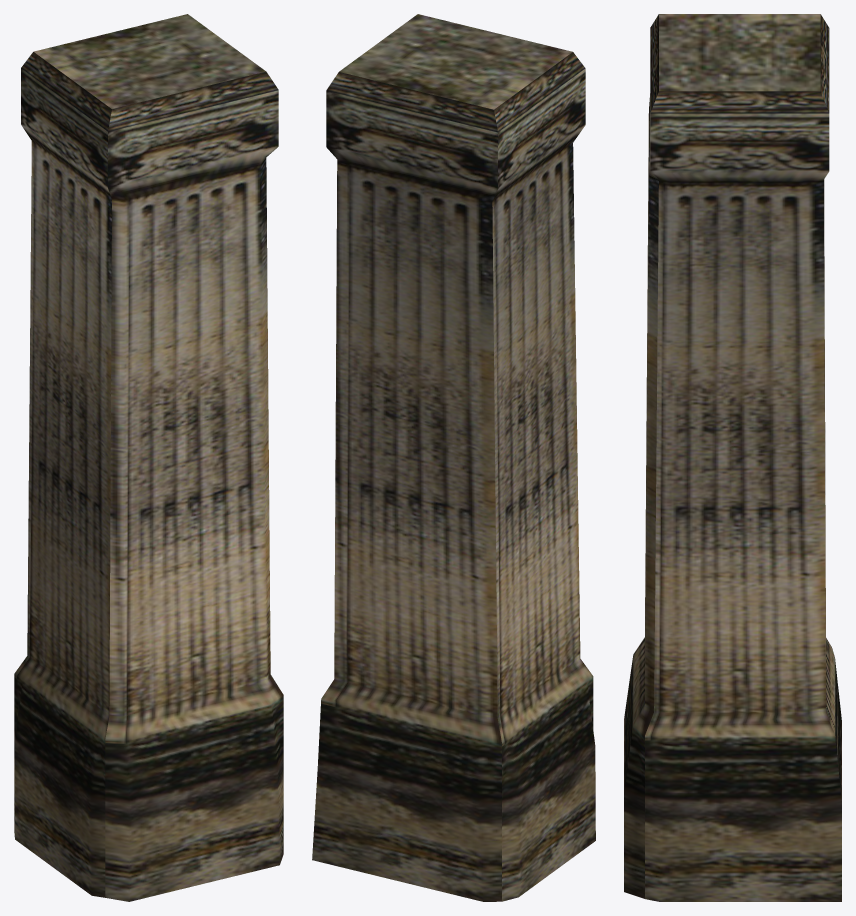
Rendered from pillar3.FBX.
3 views of the same model, side by side, from view 1: azimuth 30°, elevation 25°; view 2: azimuth 150°, elevation 25°; view 3: azimuth 270°, elevation 25° (orthographic). The views are drawn at different scales.
Visible parts, largest first — view 1: Box09; view 2: Box09; view 3: Box09.
Boxes of the visible parts, x1=… form: Box09: x1=14, y1=14, x2=283, y2=901; Box09: x1=312, y1=14, x2=595, y2=901; Box09: x1=624, y1=14, x2=841, y2=901.
Size of the model in its own units: 33.73 by 131 by 32.24.
1 material, 1 textured.
